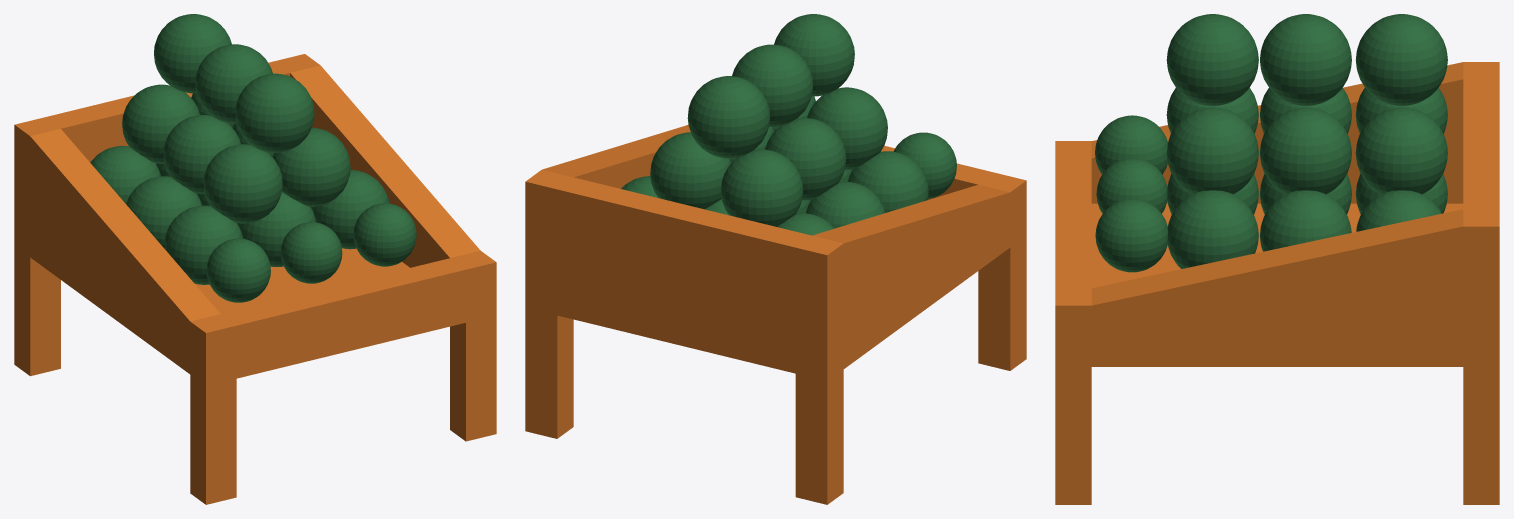
Rendered from meloncart.fbx.
3 renders of one model, left to right at view 1: azimuth 30°, elevation 25°; view 2: azimuth 150°, elevation 25°; view 3: azimuth 270°, elevation 25°, orthographic. The views are drawn at different scales.
Parts seen in each view (by area): view 1: Cube; view 2: Cube; view 3: Cube.
Boxes of the visible parts, x1,y1,x2,y2 form: Cube: (14, 14, 496, 504); Cube: (525, 14, 1026, 504); Cube: (1055, 14, 1499, 504).
Bounding box in the file's own units: 706 × 800 × 806.
